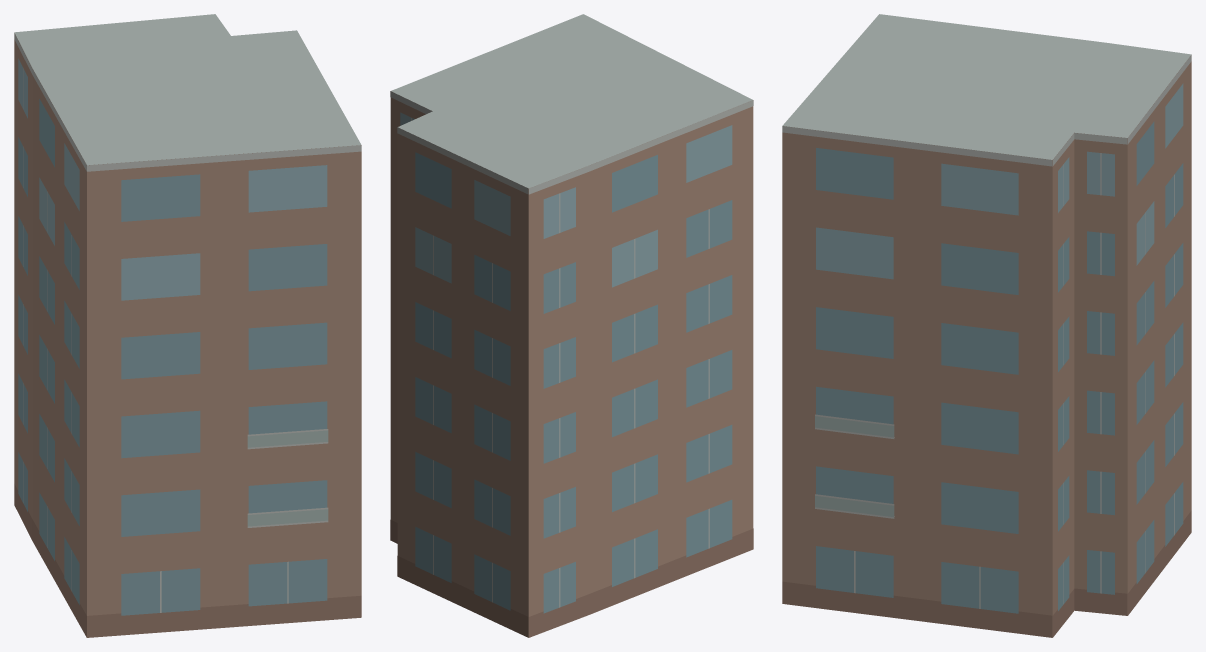
The model's file is survey-upis-32879713.glb.
3 views of the same model, side by side, from view 1: azimuth 30°, elevation 25°; view 2: azimuth 150°, elevation 25°; view 3: azimuth 270°, elevation 25° (orthographic). The views are drawn at different scales.
Parts seen in each view (by area): view 1: survey-upis-32879713.tmp; view 2: survey-upis-32879713.tmp; view 3: survey-upis-32879713.tmp.
Part boxes in pixels (bbox=[...]): survey-upis-32879713.tmp: bbox=[14, 14, 361, 637]; survey-upis-32879713.tmp: bbox=[390, 14, 753, 637]; survey-upis-32879713.tmp: bbox=[782, 14, 1191, 637].
Bounding box in the file's own units: 11.6 × 17.7 × 13.75.
